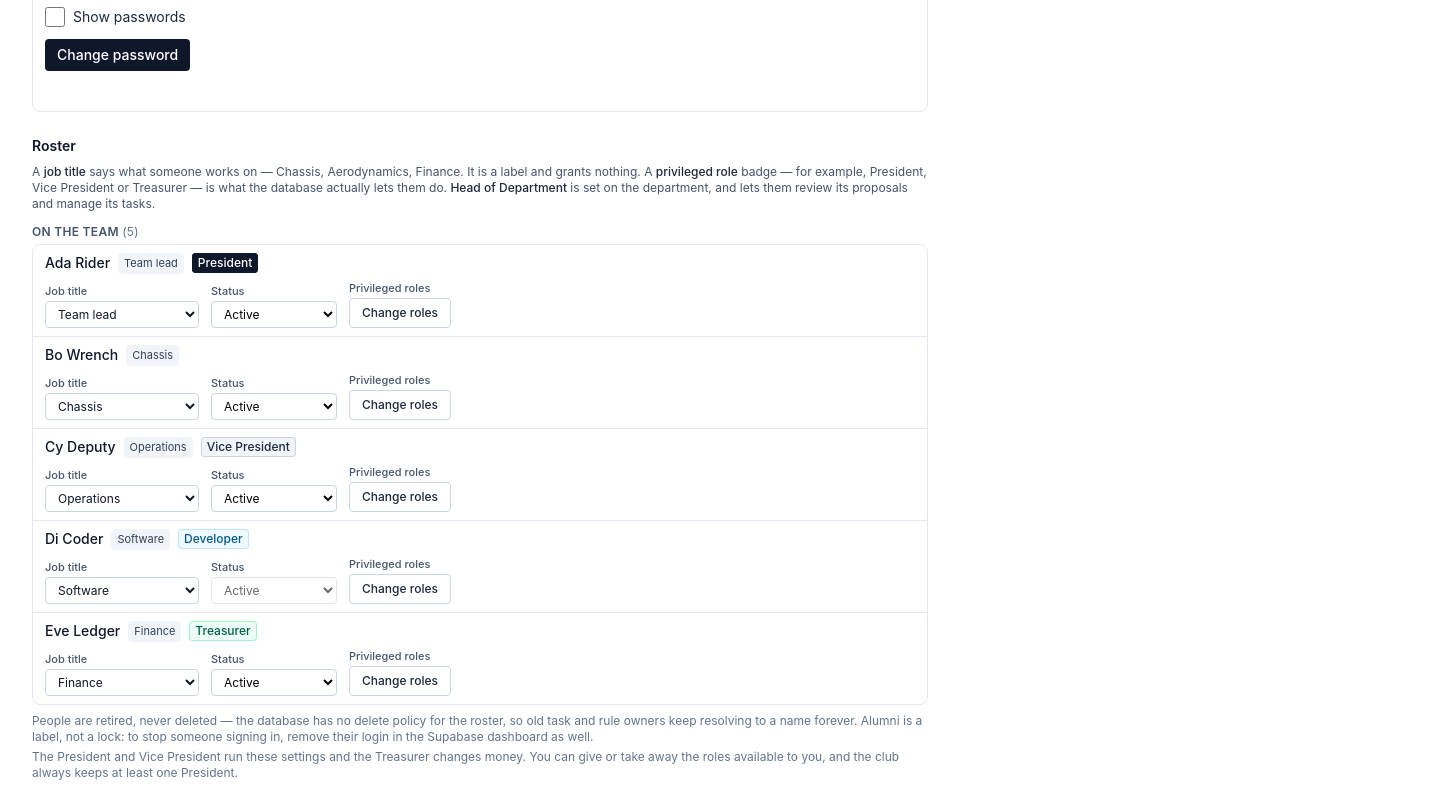
Test: role management › a harmless change saves straight away and shows up in the roster
(page scrolled)
Click the button with aria-label "Change roles for Bo Wrench": {"x": 400, "y": 405} [349,390,451,420]
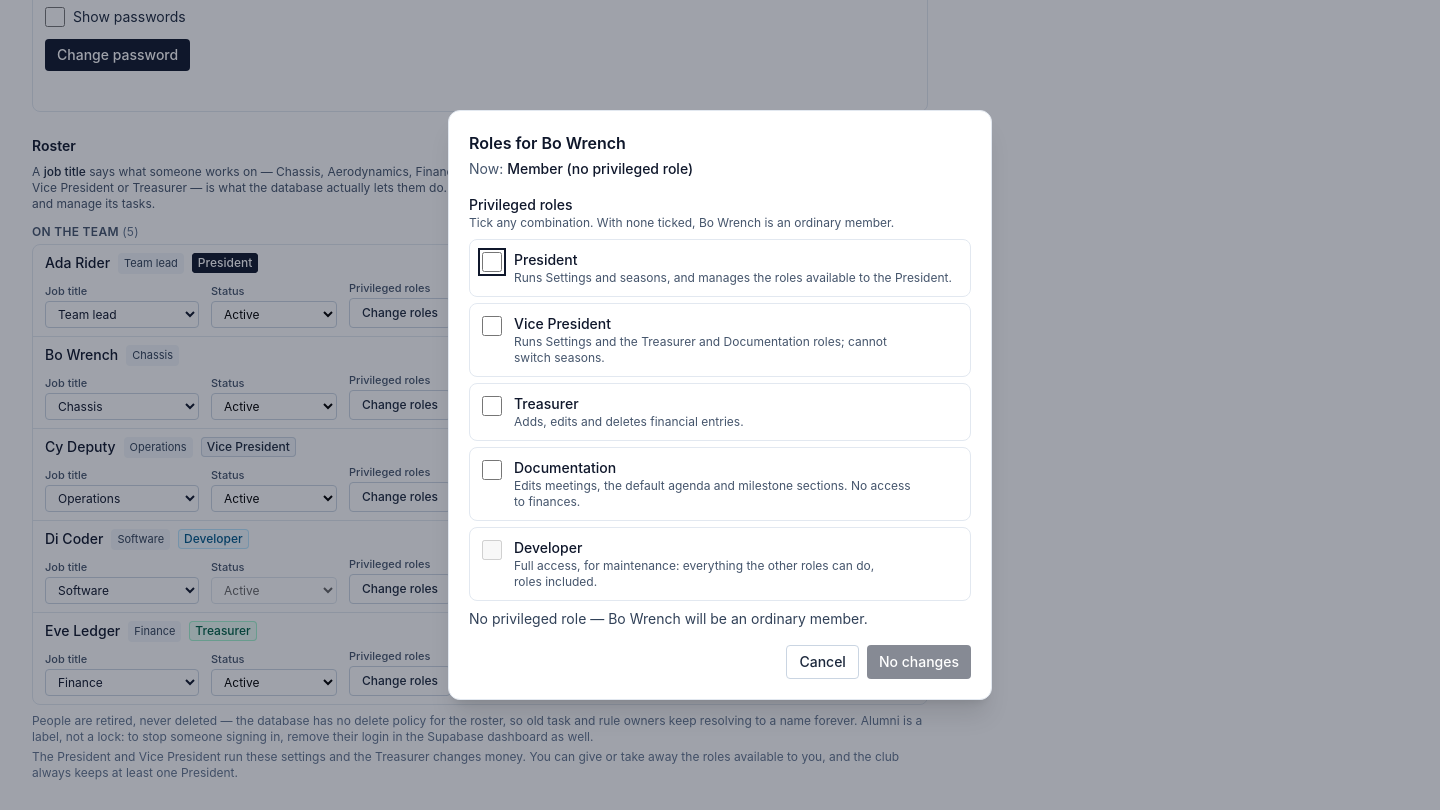
Click the 2nd checkbox: {"x": 492, "y": 326} [482,316,502,336]
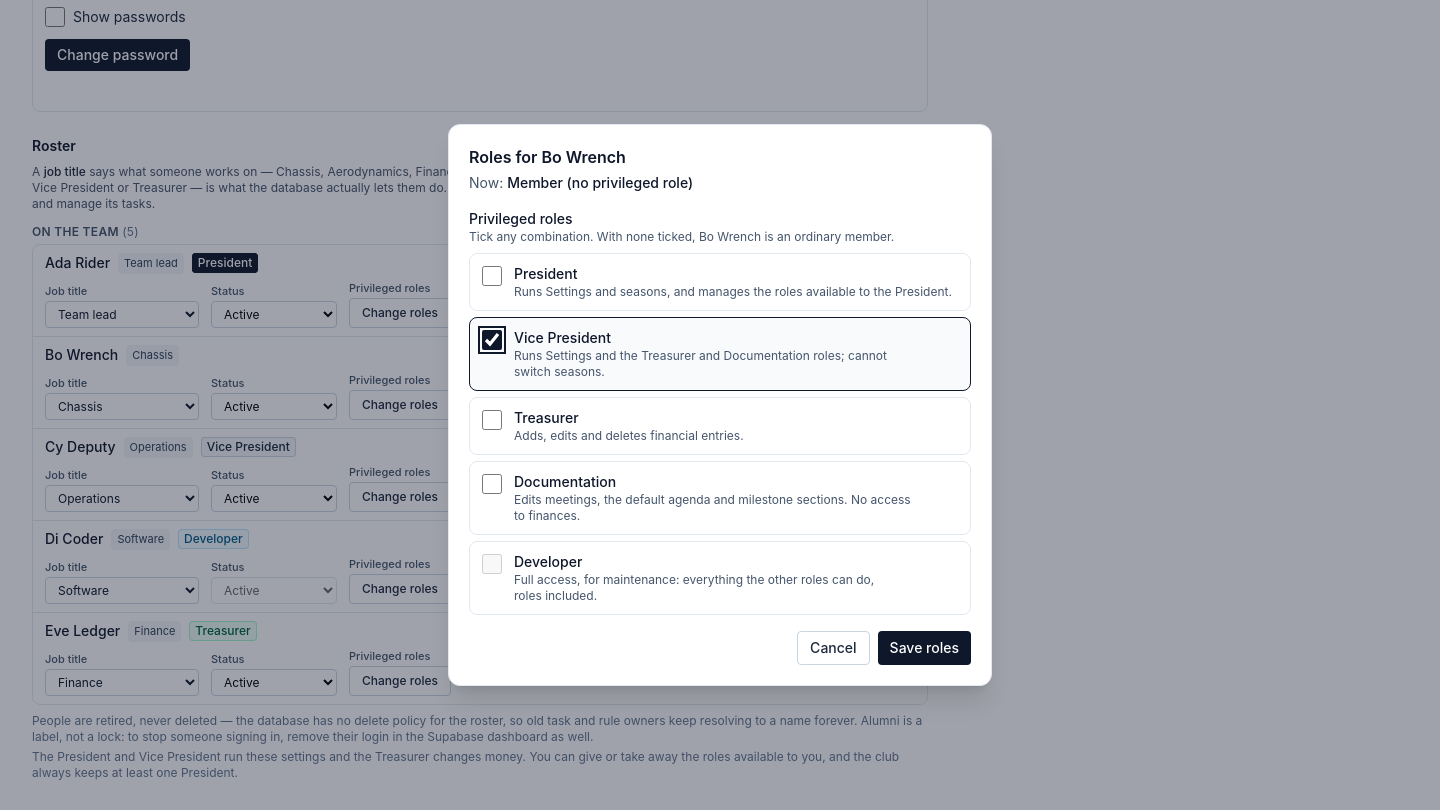
Click the button "Save roles": {"x": 924, "y": 648} [878,631,971,665]
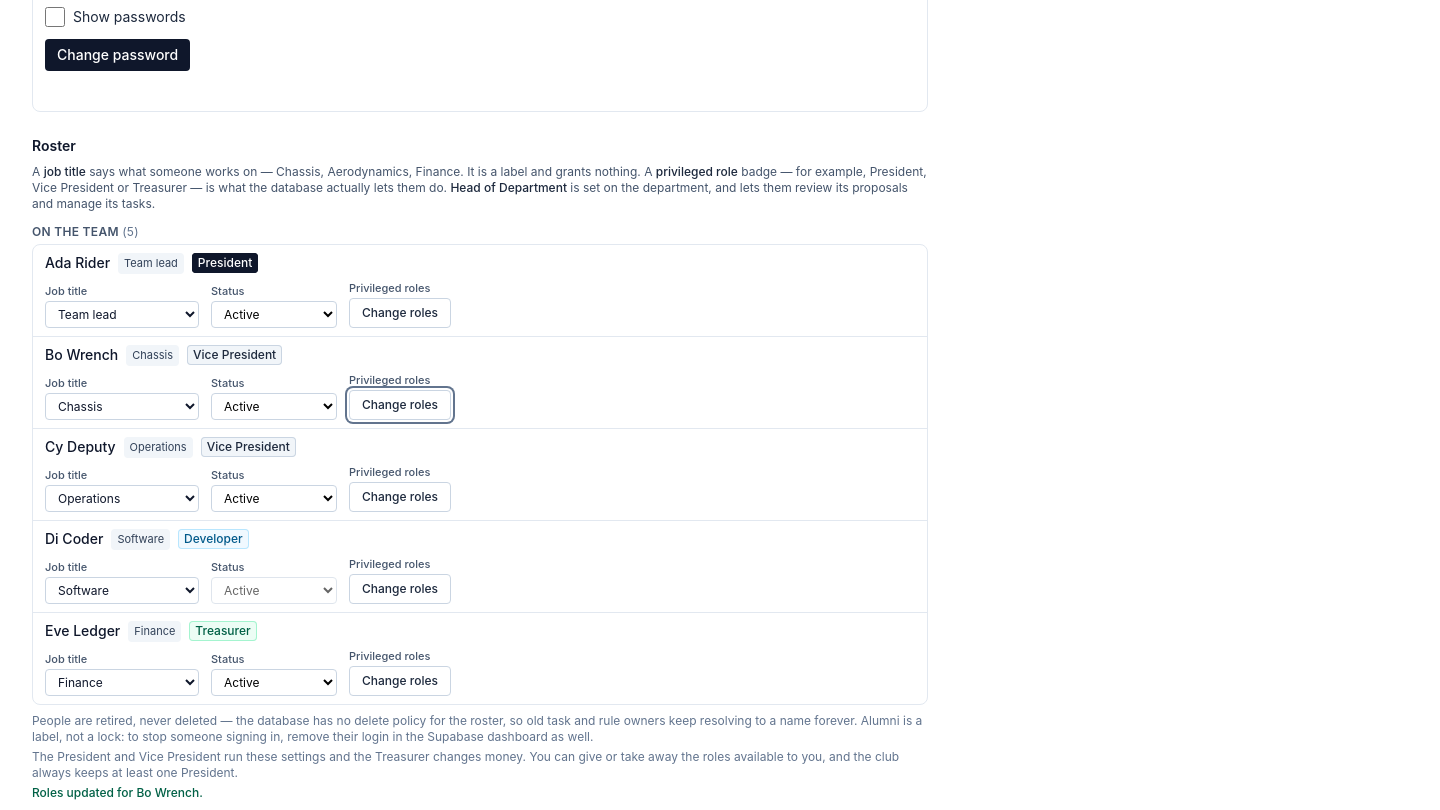
Expected: the 1st text "Vice President" is shown, [187,345,282,365]
Expected: the text "Roles updated for Bo Wrench." is shown, [32,785,203,800]
Expected: the button "Save roles" is gone
